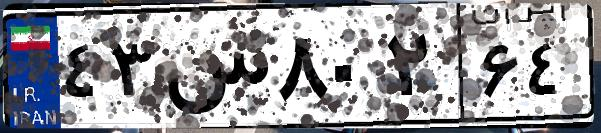0: (330, 28, 385, 110)
2: (385, 28, 445, 110)
3: (110, 28, 158, 98)
4: (57, 26, 110, 100), (525, 38, 570, 115)
6: (475, 38, 525, 113)
8: (270, 28, 330, 110)
س: (158, 20, 270, 120)
